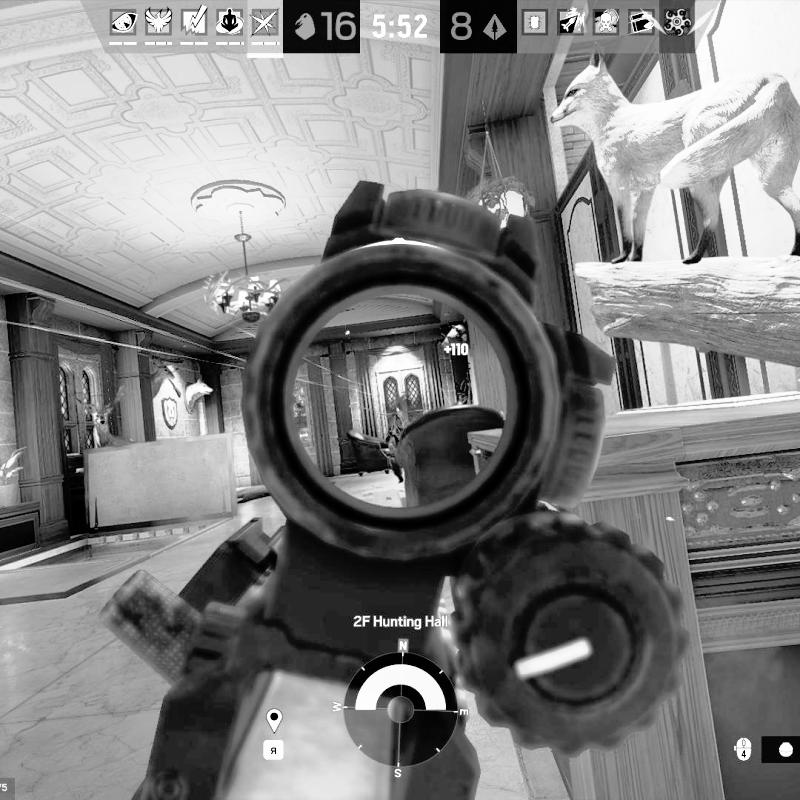Character: (385, 407, 415, 487)
